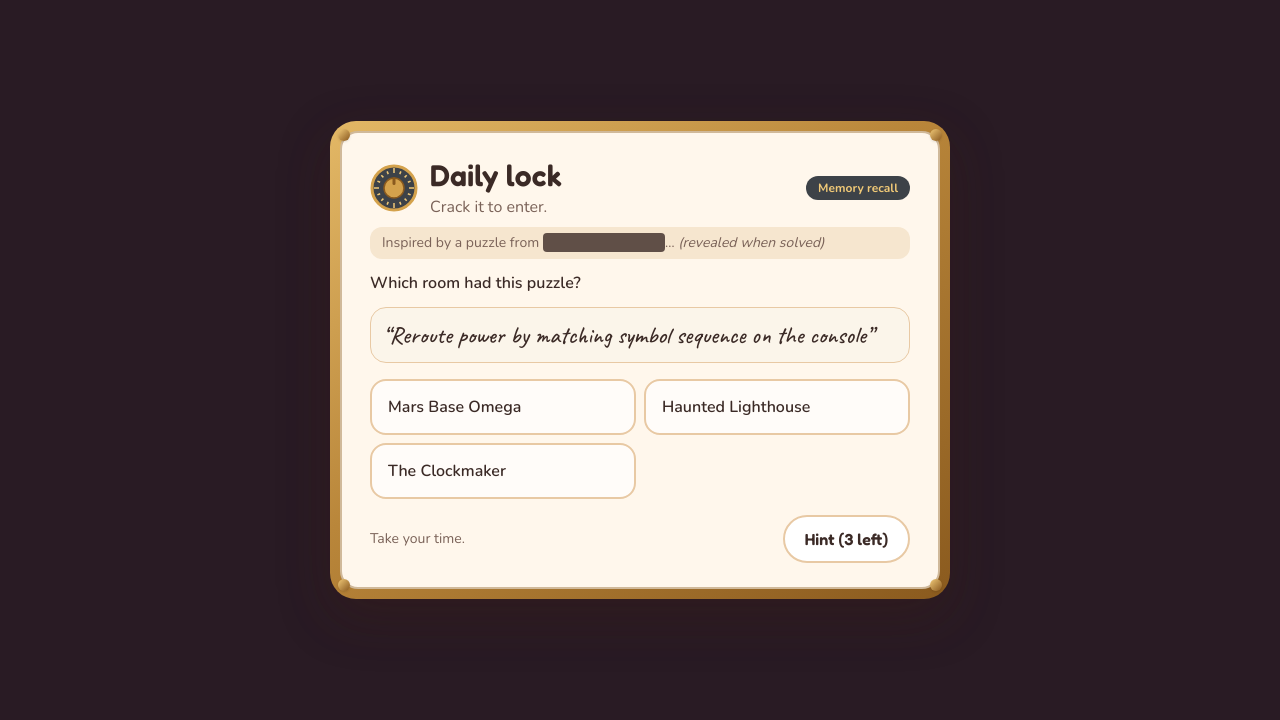
Test: GateOverlay › choice puzzles (recall)
Click the button "Mars Base Omega".
click(503, 407)  # box [370,379,636,435]
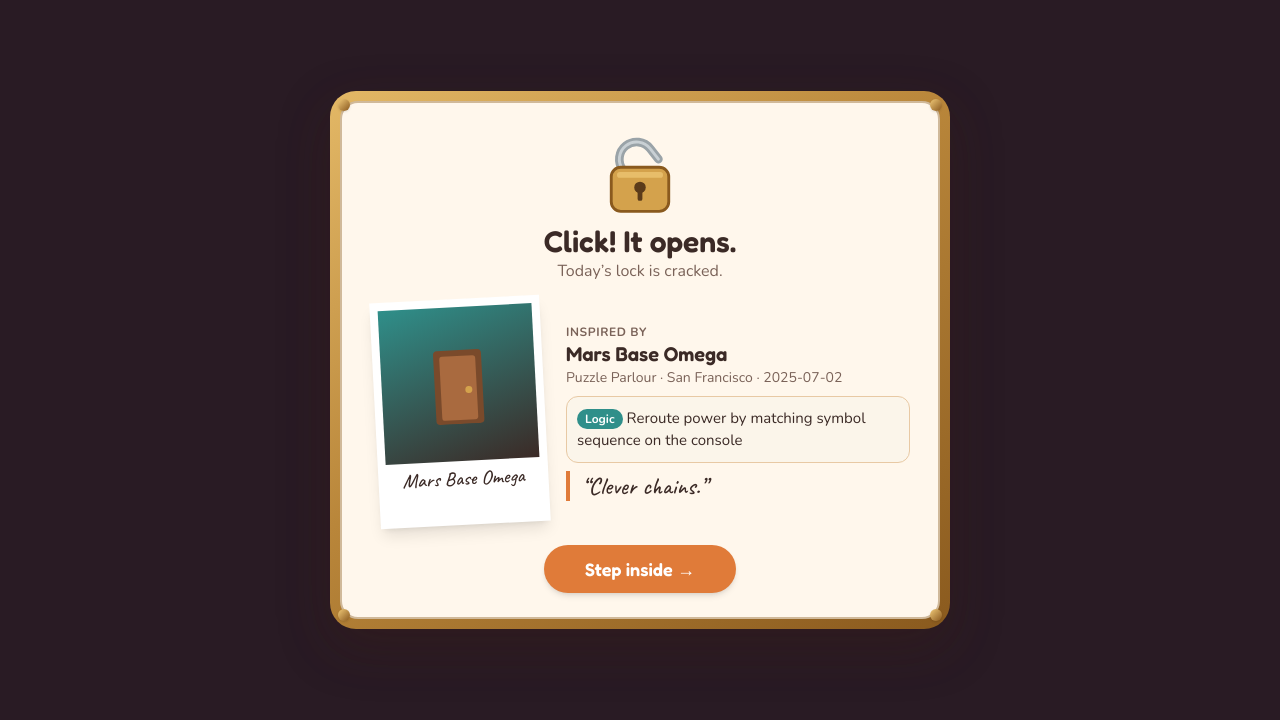
Now the element with test id "gate-reveal" is shown, box [370,127,910,593]
